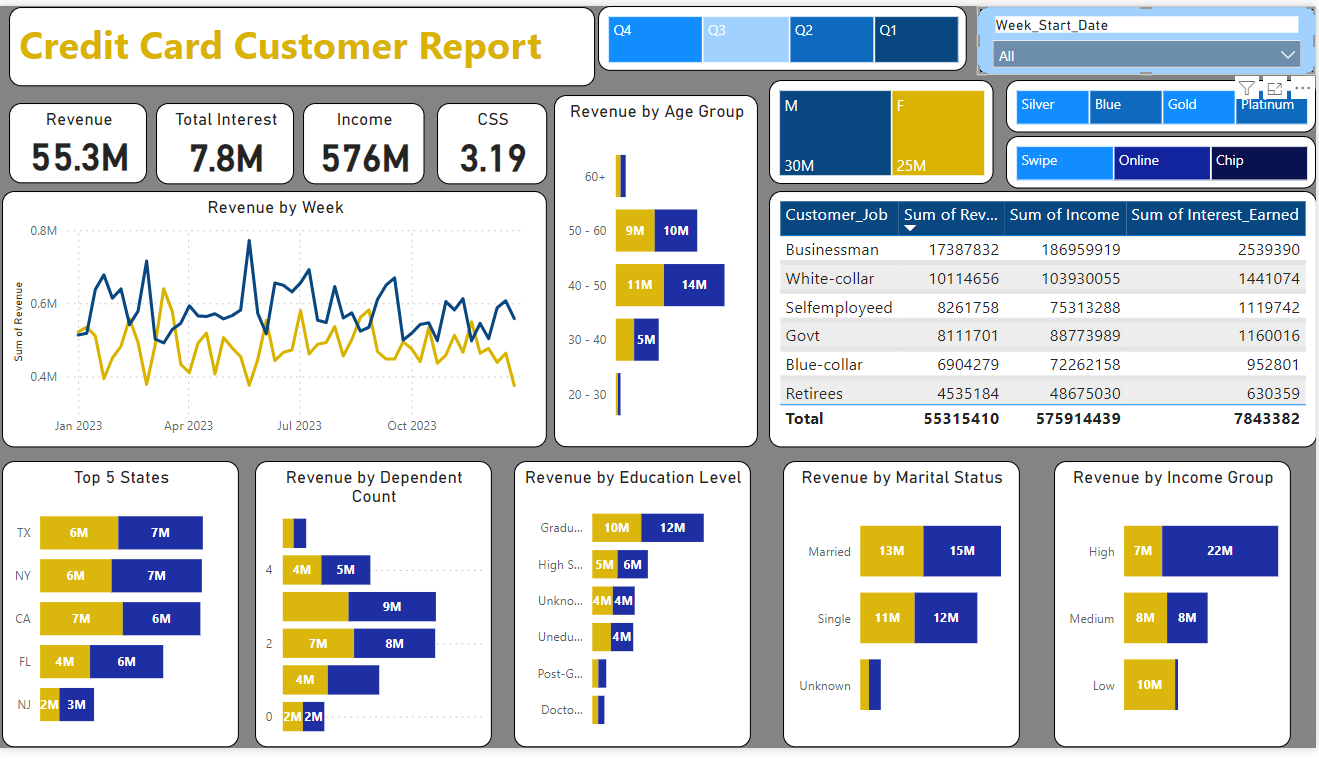

What the dashboard file says about the page in this screenshot:
{"tool":"powerbi","page":{"name":"Credit Card Customer","canvas":[1280,720],"ordinal":2},"visuals":[{"type":"card","title":" Revenue","fields":{"Values":["Sum(cc_detail.Revenue)"]},"box":[10.7,94,134.4,78],"z":0},{"type":"barChart","title":"Revenue by Income Group","fields":{"Y":["Sum(cc_detail.Revenue)"],"Category":["cust_detail.IncomeGroup"],"Series":["cust_detail.Gender"]},"box":[1025.4,441.3,229.6,278.4],"z":1000},{"type":"tableEx","fields":{"Values":["cust_detail.Customer_Job","Sum(cc_detail.Revenue)","Sum(cust_detail.Income)","Sum(cc_detail.Interest_Earned)"]},"box":[748.3,179.6,531.7,248.6],"z":2000},{"type":"card","title":"Income","fields":{"Values":["Sum(cust_detail.Income)"]},"box":[296.2,94,117.8,78.5],"z":3000},{"type":"card","title":"Total  Interest","fields":{"Values":["Sum(cc_detail.Interest_Earned)"]},"box":[153.5,94,134.4,78.5],"z":4000},{"type":"card","title":"CSS","fields":{"Values":["Avg(cust_detail.Cust_Satisfaction_Score)"]},"box":[425.9,94,107.1,78.5],"z":5000},{"type":"treemap","fields":{"Group":["cc_detail.Qtr"],"Values":["Avg(cc_detail.Client_Num)"]},"box":[582.9,0,358.1,63],"z":6000},{"type":"treemap","fields":{"Values":["Avg(cc_detail.Client_Num)"],"Group":["cc_detail.Card_Category"]},"box":[979,71.4,301,51.2],"z":7000},{"type":"textbox","box":[10.7,1.2,568.6,77.3],"z":8001},{"type":"lineChart","title":"Revenue by Week","fields":{"Y":["Sum(cc_detail.Revenue)"],"Series":["cust_detail.Gender"],"Category":["cc_detail.Week_Start_Date.Variation.Date Hierarchy.Year","cc_detail.Week_Start_Date.Variation.Date Hierarchy.Month","cc_detail.Week_Start_Date.Variation.Date Hierarchy.Day"]},"box":[3.6,179.6,529.4,248.6],"z":8002},{"type":"treemap","fields":{"Group":["cust_detail.Gender"],"Values":["Sum(cc_detail.Revenue)"]},"box":[748.3,71.4,217.7,101.1],"z":8003},{"type":"barChart","title":"Revenue by Age Group","fields":{"Y":["Sum(cc_detail.Revenue)"],"Category":["cust_detail.AgeGroup"],"Series":["cust_detail.Gender"]},"box":[540.1,94,198.7,334.3],"z":8004},{"type":"barChart","title":"Revenue by Dependent Count","fields":{"Y":["Sum(cc_detail.Revenue)"],"Category":["cust_detail.Dependent_Count"],"Series":["cust_detail.Gender"]},"box":[249.8,441.3,229.6,278.4],"z":8005},{"type":"barChart","title":"Revenue by Education Level","fields":{"Y":["Sum(cc_detail.Revenue)"],"Category":["cust_detail.Education_Level"],"Series":["cust_detail.Gender"]},"box":[500.8,441.3,229.6,278.4],"z":8006},{"type":"barChart","title":"Top 5 States","fields":{"Y":["Sum(cc_detail.Revenue)"],"Category":["cust_detail.State_cd"],"Series":["cust_detail.Gender"]},"box":[3.6,441.3,230,278.4],"z":8007},{"type":"barChart","title":"Revenue by Marital Status","fields":{"Y":["Sum(cc_detail.Revenue)"],"Category":["cust_detail.Marital_Status"],"Series":["cust_detail.Gender"]},"box":[762.5,441.3,229.6,278.4],"z":8008},{"type":"treemap","fields":{"Values":["Avg(cc_detail.Client_Num)"],"Group":["cc_detail.Use_Chip"]},"box":[979,126.1,301,51],"z":8009},{"type":"slicer","title":"Sum of Revenue by Education Level","fields":{"Values":["cc_detail.Week_Start_Date"]},"box":[950.5,0,329.5,66.6],"z":8010}]}

Visuals, with their boxes in screenshot pixels (x1, y1, x2, y2), scaled from the page's 1280x720 canvas onto the 1319x759 screenshot:
" Revenue" card: 11,99,150,181
"Revenue by Income Group" barChart: 1057,465,1293,758
tableEx - cust_detail.Customer_Job x Sum(cc_detail.Revenue): 771,189,1318,451
"Income" card: 305,99,427,182
"Total  Interest" card: 158,99,297,182
"CSS" card: 439,99,549,182
treemap - cc_detail.Qtr x Avg(cc_detail.Client_Num): 601,0,970,66
treemap - Avg(cc_detail.Client_Num) x cc_detail.Card_Category: 1009,75,1318,129
textbox: 11,1,597,83
"Revenue by Week" lineChart: 4,189,549,451
treemap - cust_detail.Gender x Sum(cc_detail.Revenue): 771,75,995,182
"Revenue by Age Group" barChart: 557,99,761,451
"Revenue by Dependent Count" barChart: 257,465,494,758
"Revenue by Education Level" barChart: 516,465,753,758
"Top 5 States" barChart: 4,465,241,758
"Revenue by Marital Status" barChart: 786,465,1022,758
treemap - Avg(cc_detail.Client_Num) x cc_detail.Use_Chip: 1009,133,1318,187
"Sum of Revenue by Education Level" slicer: 979,0,1318,70
